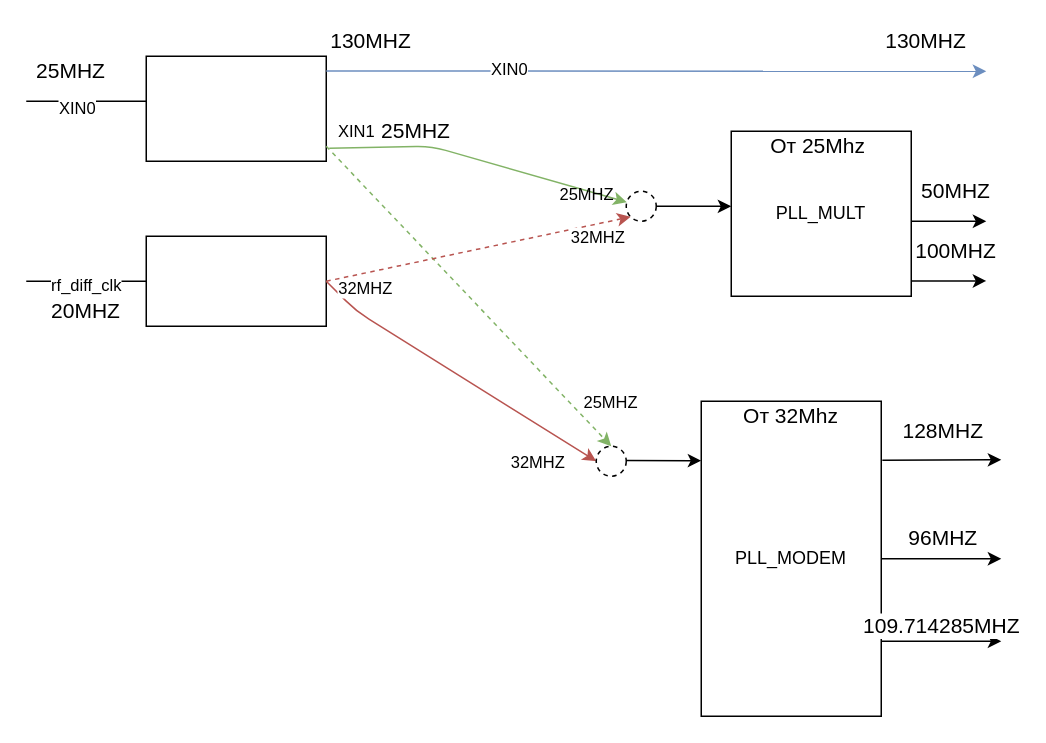
Image size: 1046x743. Some labels were removed from this diagram. The centre of each missing label's shape, as x and y in pixels:
PLL_20_32: (x=235, y=280)
XIN_DIVIDER: (x=235, y=108)
